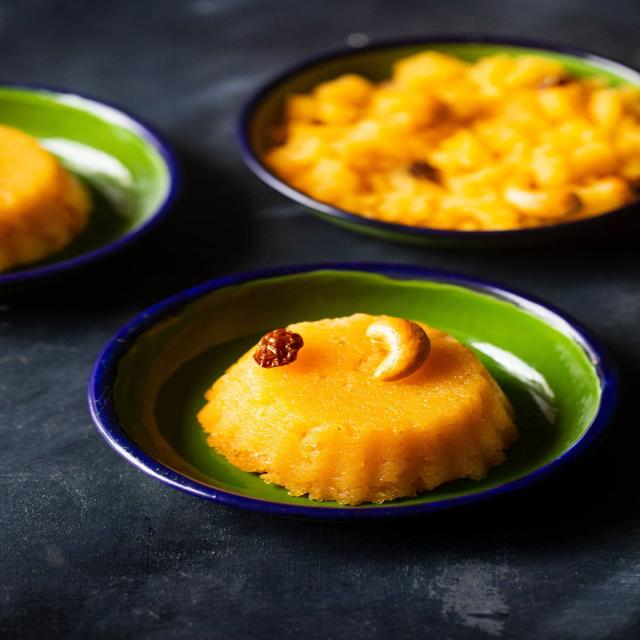kesari bath: (166, 299, 544, 522), (243, 39, 640, 240), (0, 119, 109, 283)
